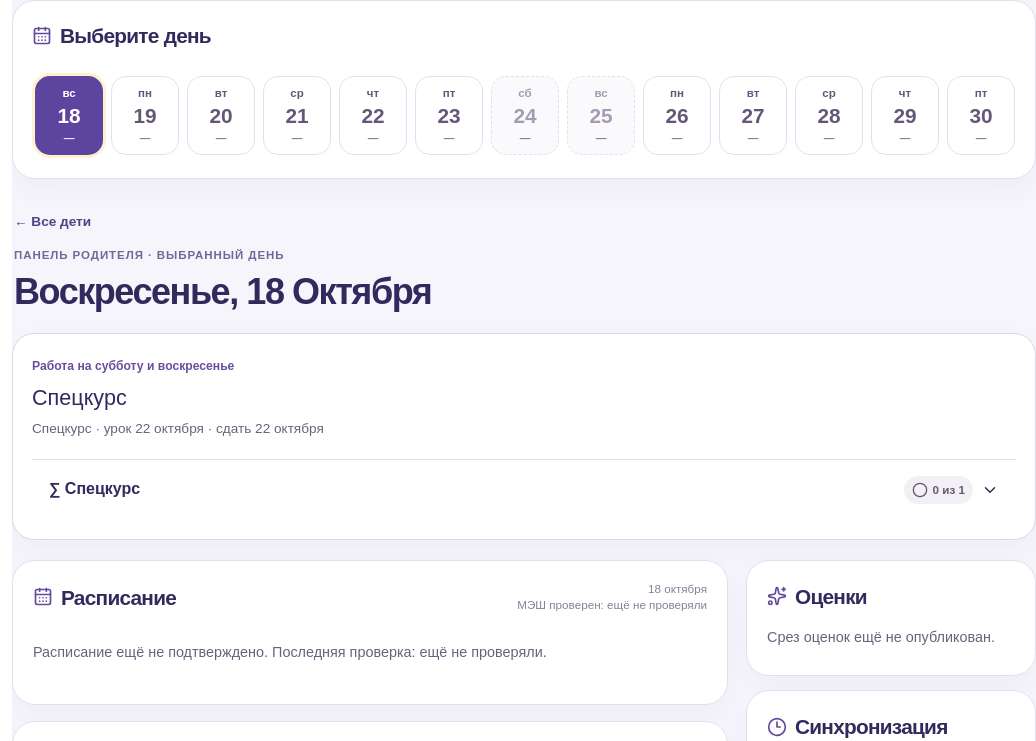
Test case: shared calendar with the actual weekend task composition › receives a published review on the open parent weekend card without switching to student actions
Click the button "∑ Спецкурс 0 из 1".
click(95, 489)  # box top-left (32, 460), bottom-right (1016, 520)
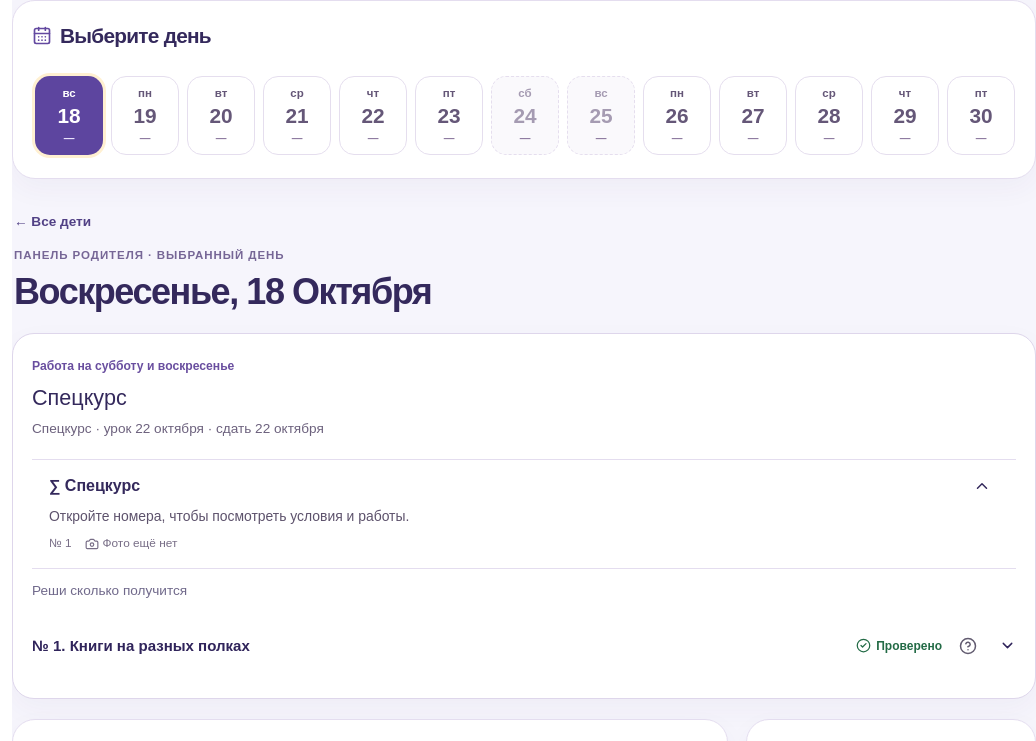
Expected: the element showing "№ 1. Книги на разных полках Проверено" is shown, top-left (32, 613), bottom-right (1016, 679)
Expected: the element showing "Проверено" is shown, top-left (856, 637), bottom-right (942, 655)
